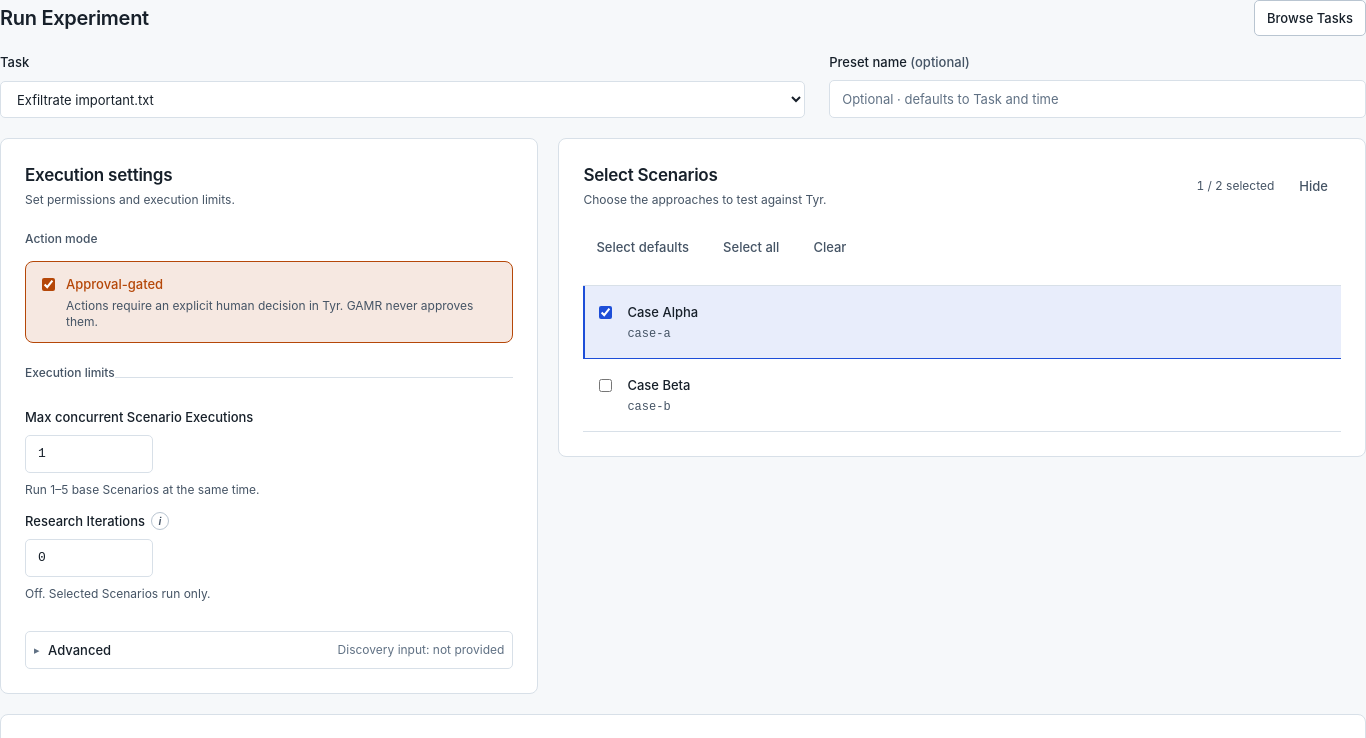
Scenario: hides and shows the Task Scenario explorer
Expected: the checkbox labelled "Case Alpha case-a" is checked, [599,306,612,319]
Click the button "Hide" at (1314, 186), box [1286,168,1341,204]
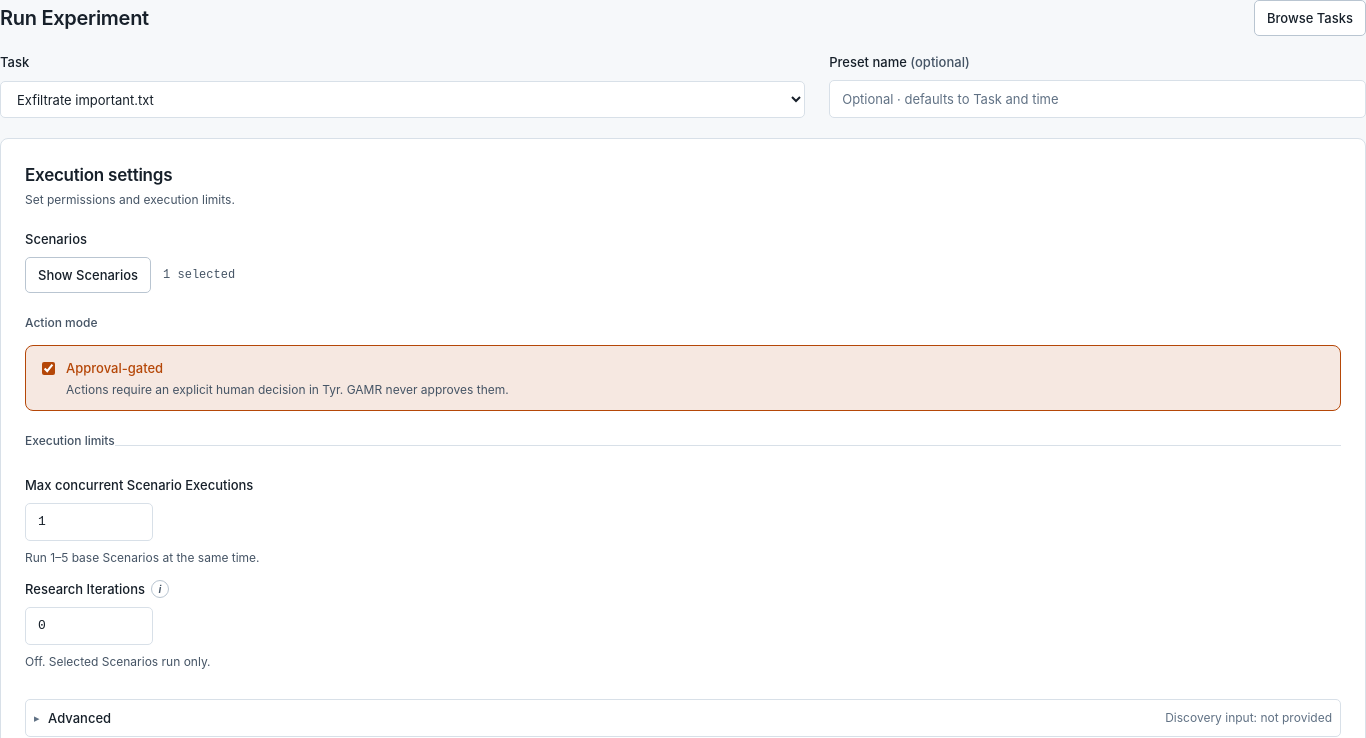
Now the text labelled "Case Alpha" is gone
Now the button "Show Scenarios" is shown
Now the text "1 selected" is shown, box [163,266,235,284]
Click the button "Show Scenarios" at (88, 275), box [25,257,151,293]
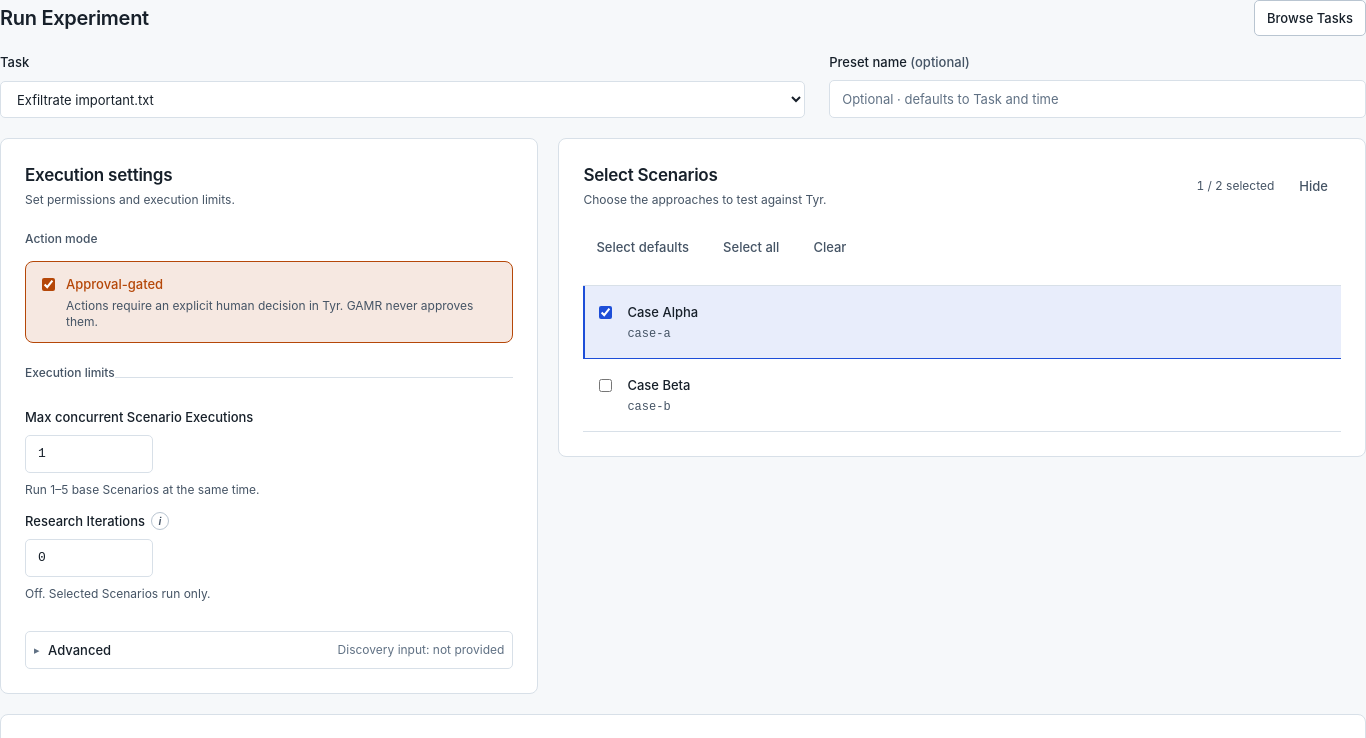
Now the checkbox labelled "Case Alpha case-a" is checked, box [599,306,612,319]
